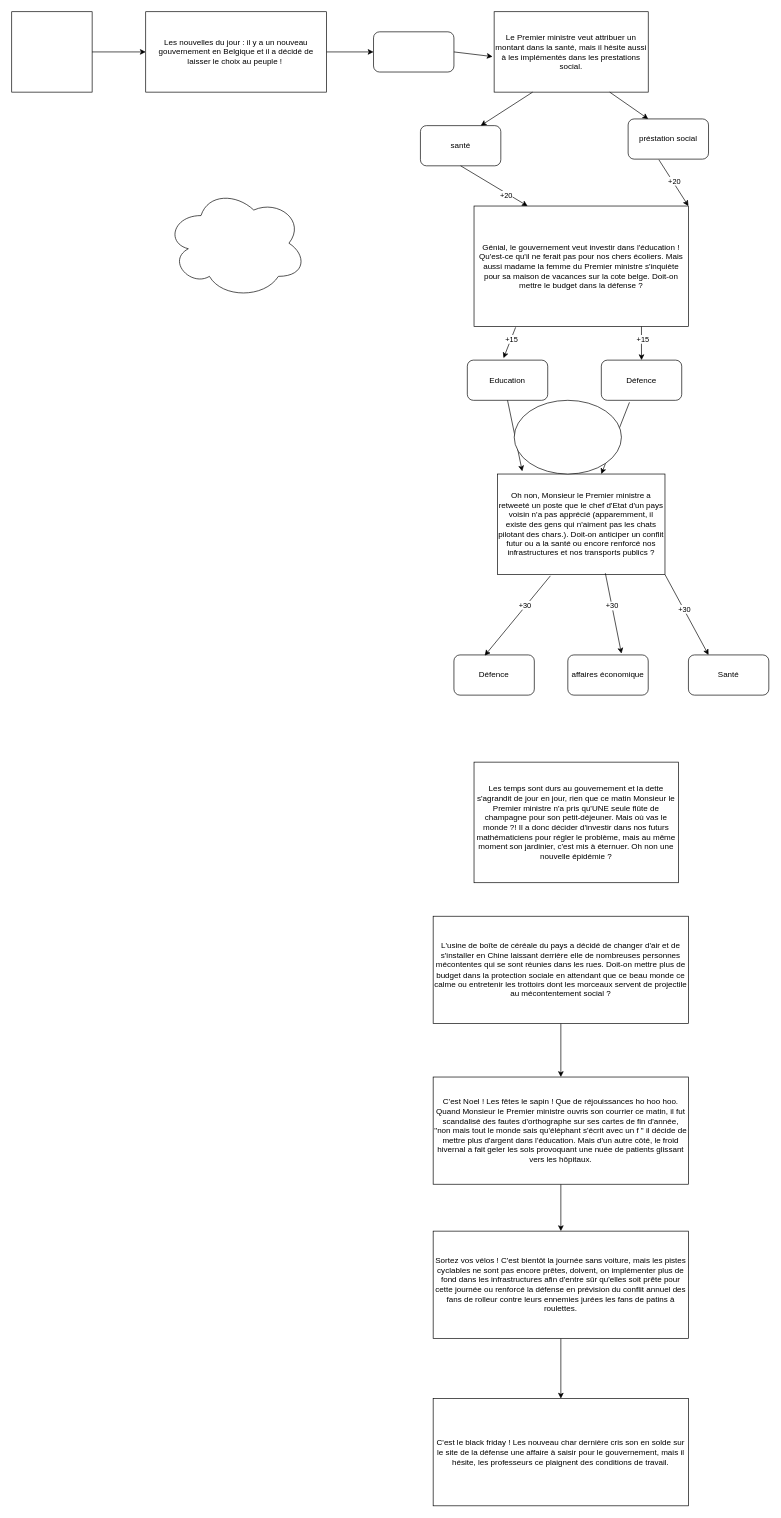
Some shapes in this 781 by 1518 pixel diagram are drawn without their labels. Here are the shapes that lost their labels. From the top down, the centre of each, then its label:
[51,51]: Dialogue de base avec bouton start
[413,51]: commencer
[236,242]: Santé +20 Education +15 =35%
[567,437]: A partir de la les modification changerons le perso
